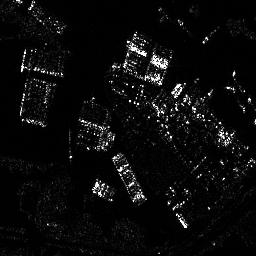ship: (111, 153, 149, 205)
